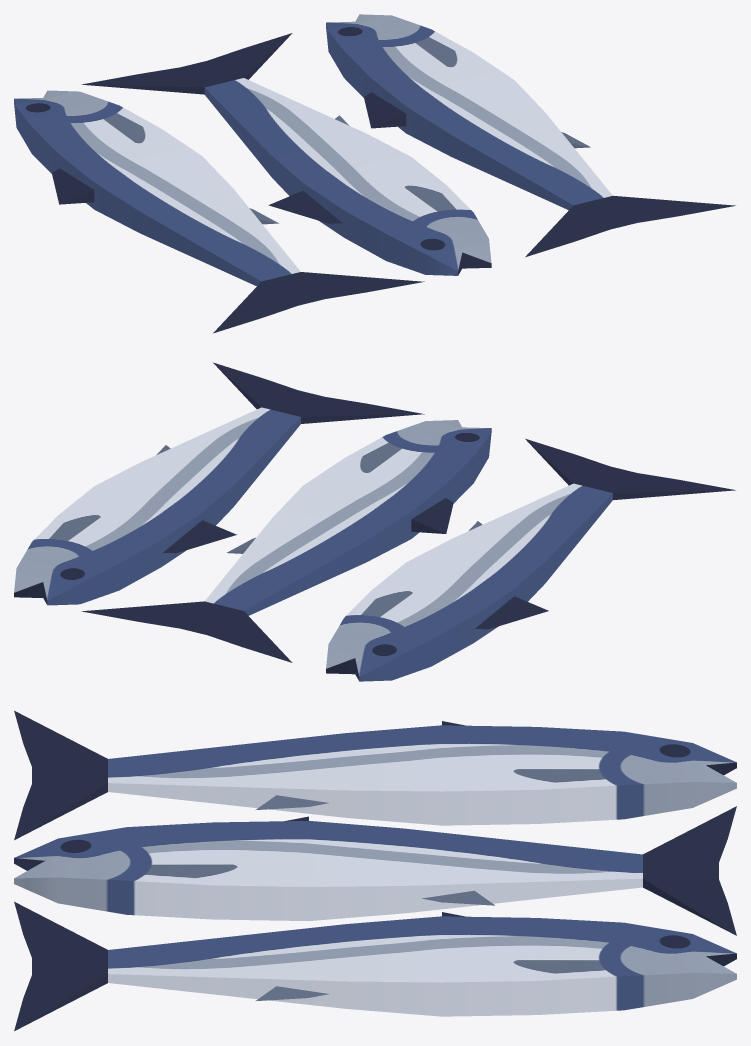
The model's file is anchovies_Slice_Fish_0.glb.
The picture shows the model from 3 angles, top to bottom: view 1: azimuth 30°, elevation 25°; view 2: azimuth 150°, elevation 25°; view 3: azimuth 270°, elevation 25°; orthographic projection. The views are drawn at different scales.
Parts seen in each view (by area): view 1: anchovies_Slice_Fish_0; view 2: anchovies_Slice_Fish_0; view 3: anchovies_Slice_Fish_0.
Boxes of the visible parts, x1=… form: anchovies_Slice_Fish_0: x1=14, y1=14, x2=735, y2=333; anchovies_Slice_Fish_0: x1=14, y1=362, x2=735, y2=681; anchovies_Slice_Fish_0: x1=14, y1=710, x2=736, y2=1031.
Size of the model in its own units: 0.2017 by 0.01 by 0.192.
Materials: 1 (1 with a texture image).
